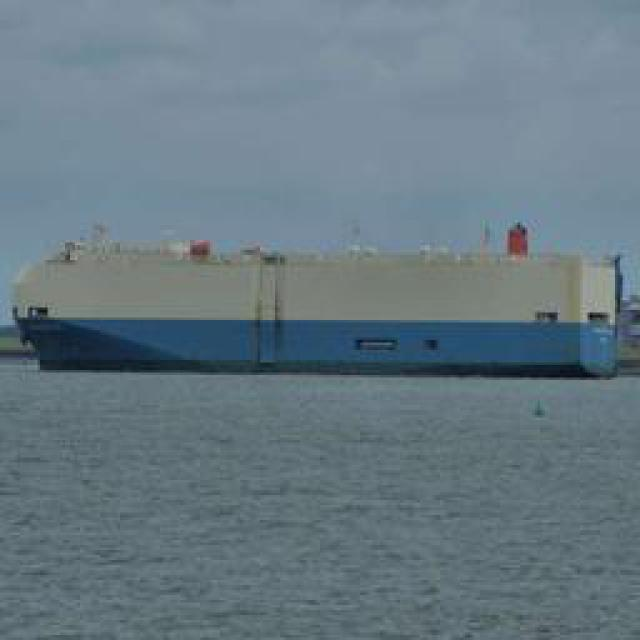Ship: (21, 236, 640, 377)
